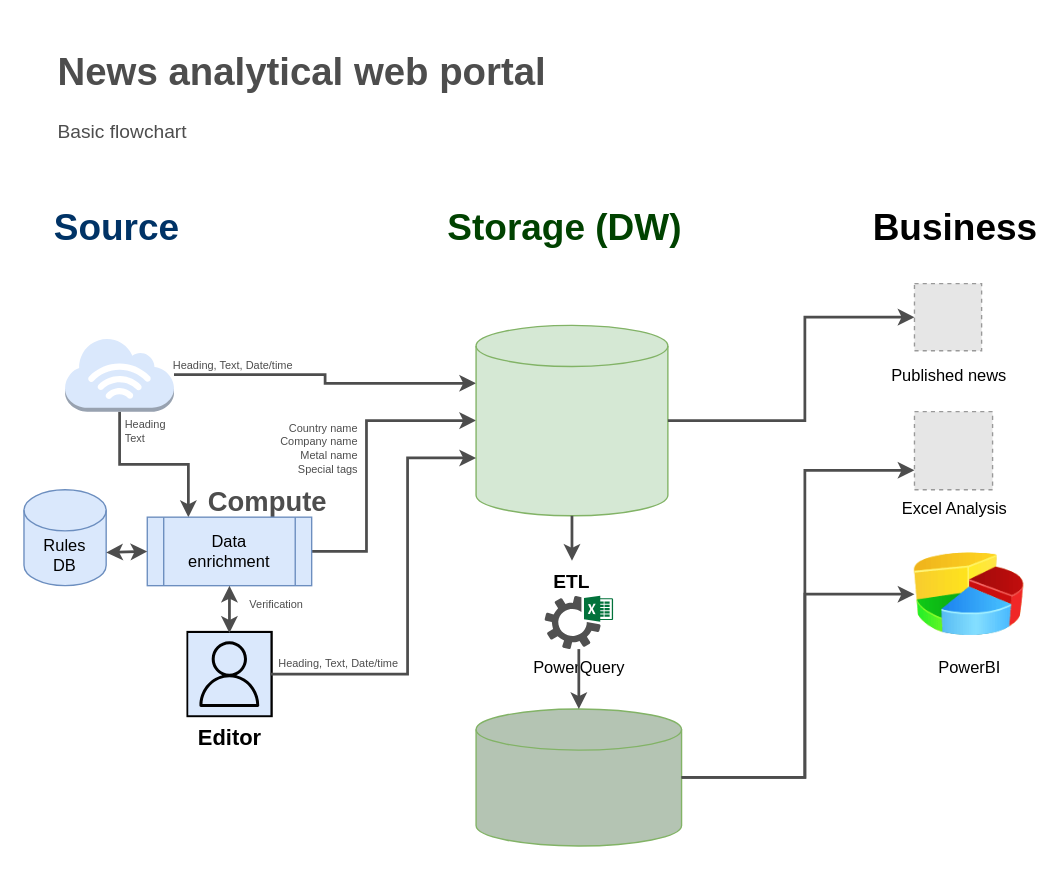
The diagram is 1062 pixels wide and 870 high, and some of its shapes have lost their labels. Grey dashed boxes stand in for pictures. The box of each missing label's shape, as (x1, y1, x2, y2) in pixels:
MySQL DB: (475, 324, 668, 516)
MySQL DB (ready for analysis): (475, 708, 682, 846)
News API's: (64, 336, 174, 412)
